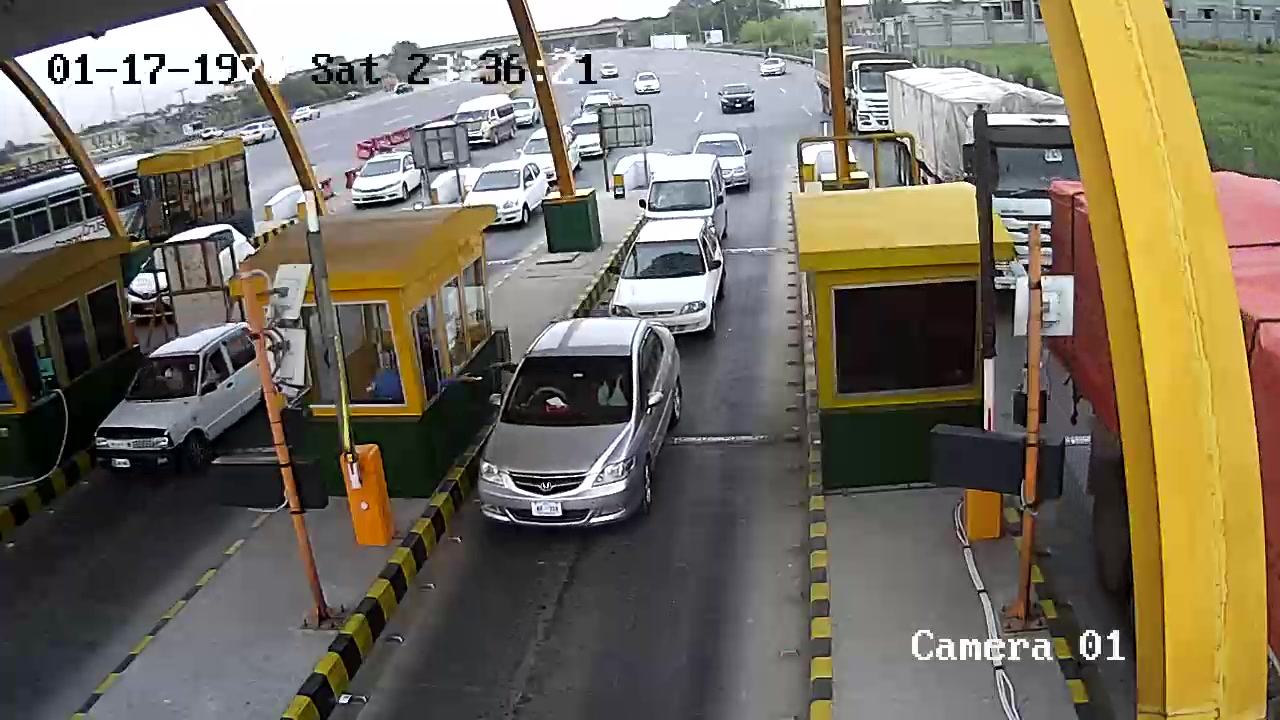F1: (473, 317, 688, 535), (613, 214, 731, 334)
